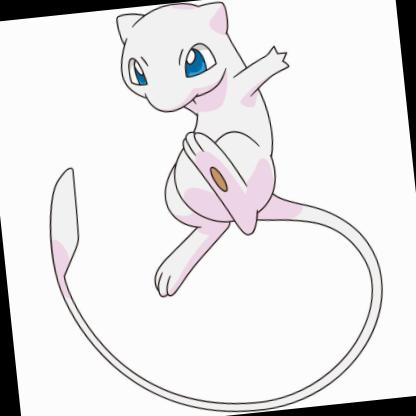Mew: (8, 0, 415, 408)
